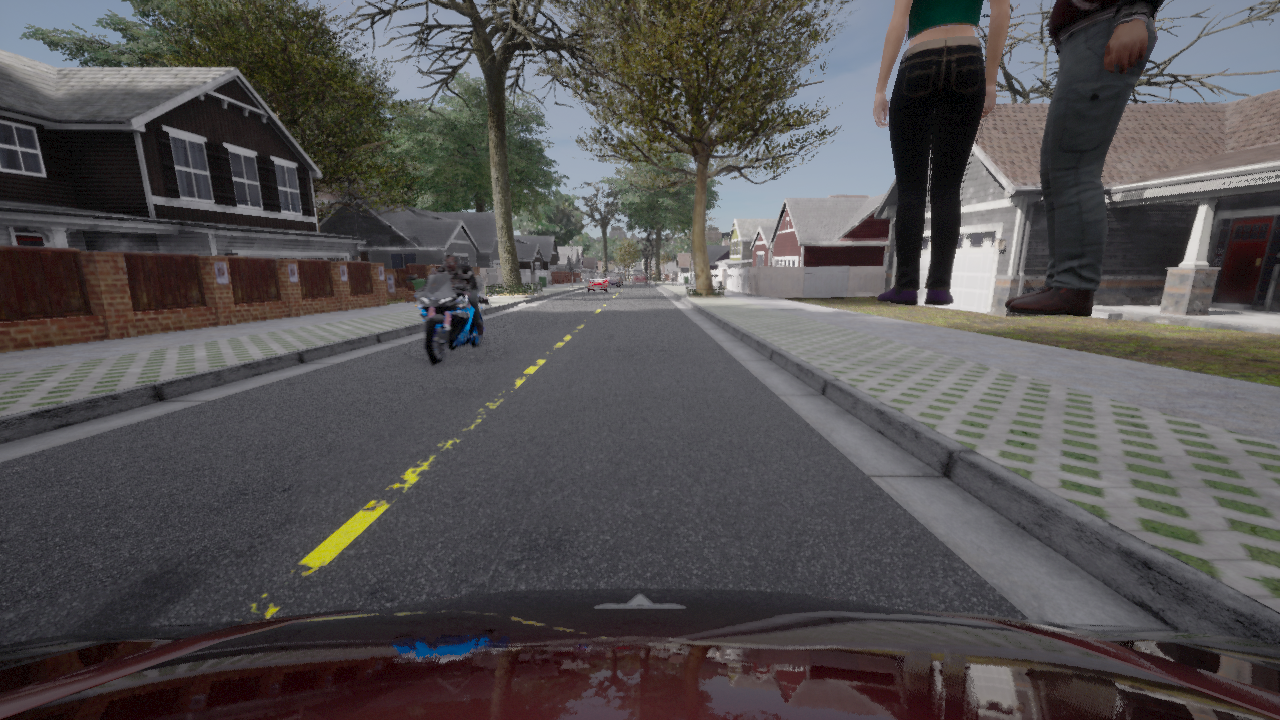cyclist: (0, 588, 1279, 719), (407, 272, 490, 365), (586, 271, 608, 292), (603, 271, 620, 287), (633, 272, 646, 284), (617, 272, 623, 285)
pedestrian: (1005, 0, 1163, 316), (872, 0, 1008, 305)
